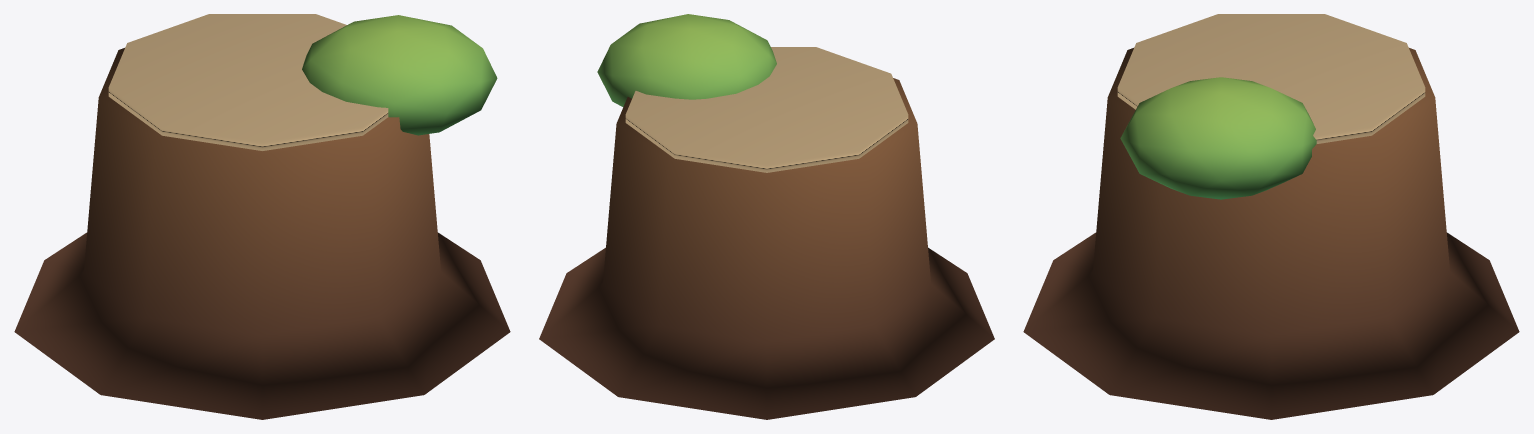
Rendered from stump.glb.
3 views of the same model, side by side, from view 1: azimuth 30°, elevation 25°; view 2: azimuth 150°, elevation 25°; view 3: azimuth 270°, elevation 25° (orthographic). The views are drawn at different scales.
Parts seen in each view (by area): view 1: stump; view 2: stump; view 3: stump.
Part boxes in pixels (x1,y1,x2,y2): stump: (14,14,510,419); stump: (539,14,994,419); stump: (1023,14,1519,419).
Bounding box in the file's own units: 0.9698 × 0.6 × 0.9848.
